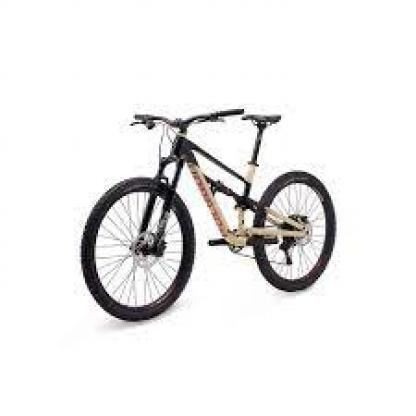Bike: (81, 106, 337, 325)
